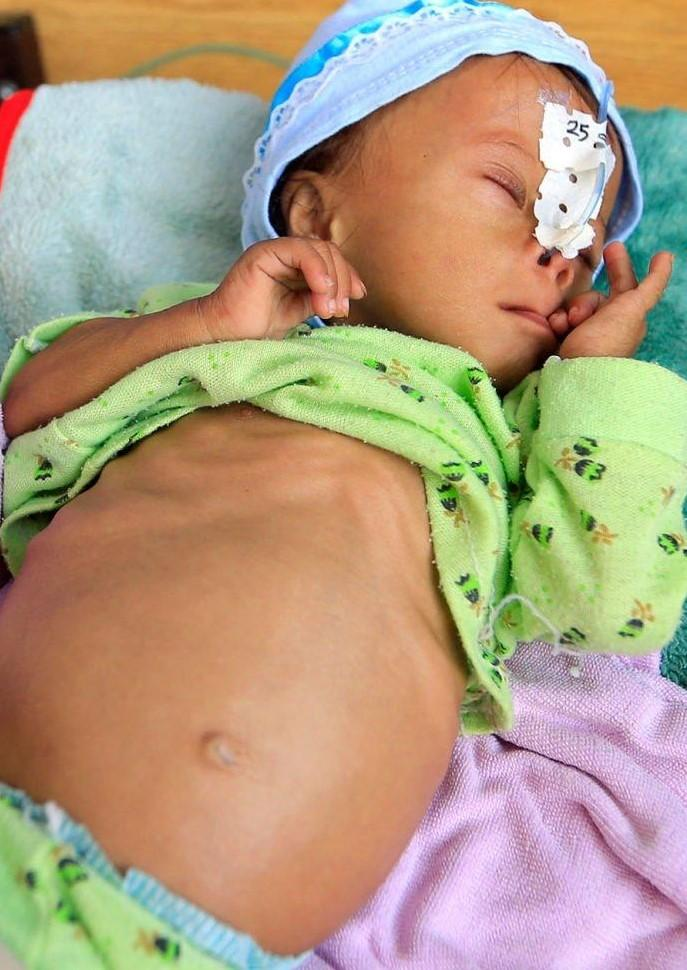Stunting: (262, 52, 687, 420)
